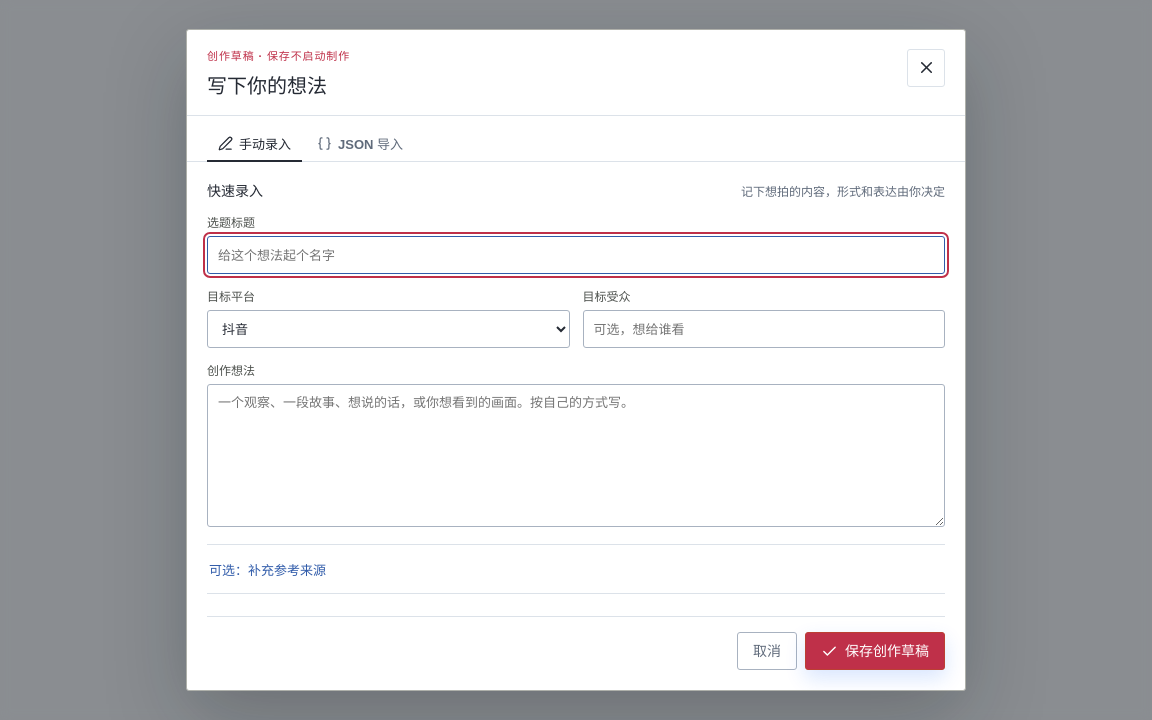
Test case: opportunity draft protection › blocks close during a save and retains values on rejection
The width and height of the screenshot is (1152, 720).
Type "要保留的内容" into the field labelled "选题标题".
click(576, 255); type("要保留的内容")  # box [207,236,945,274]
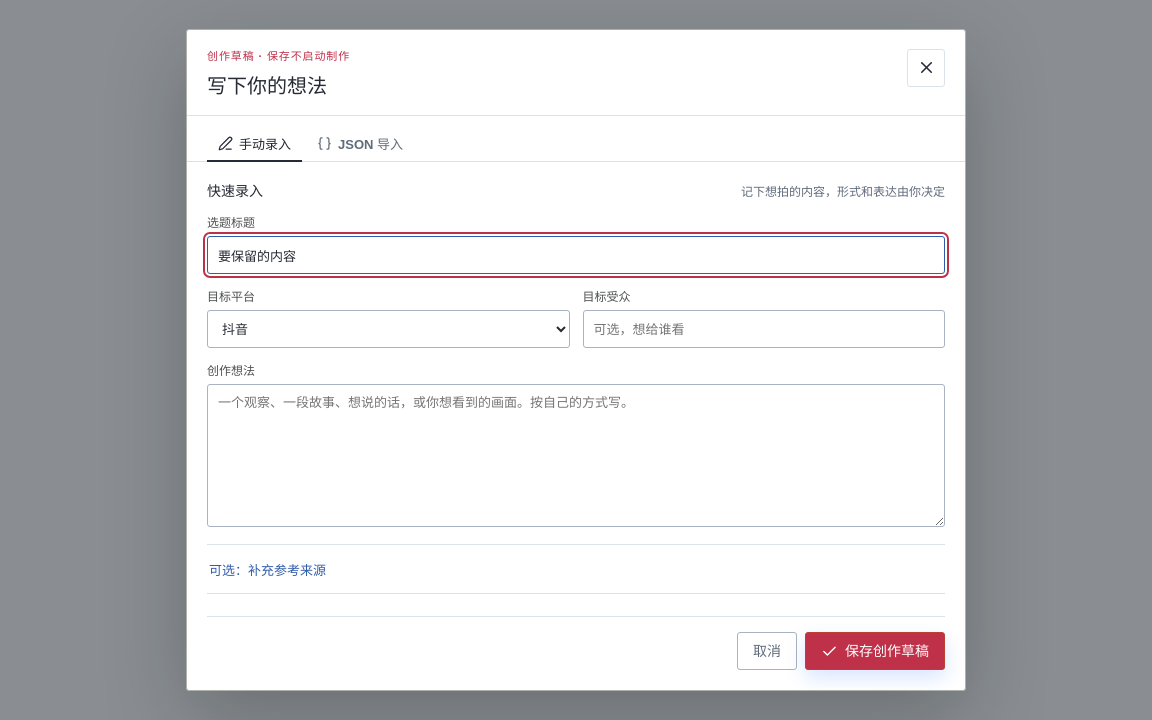
Type "要保留的内容" into the field labelled "目标受众".
click(764, 329); type("要保留的内容")  # box [582,310,945,348]
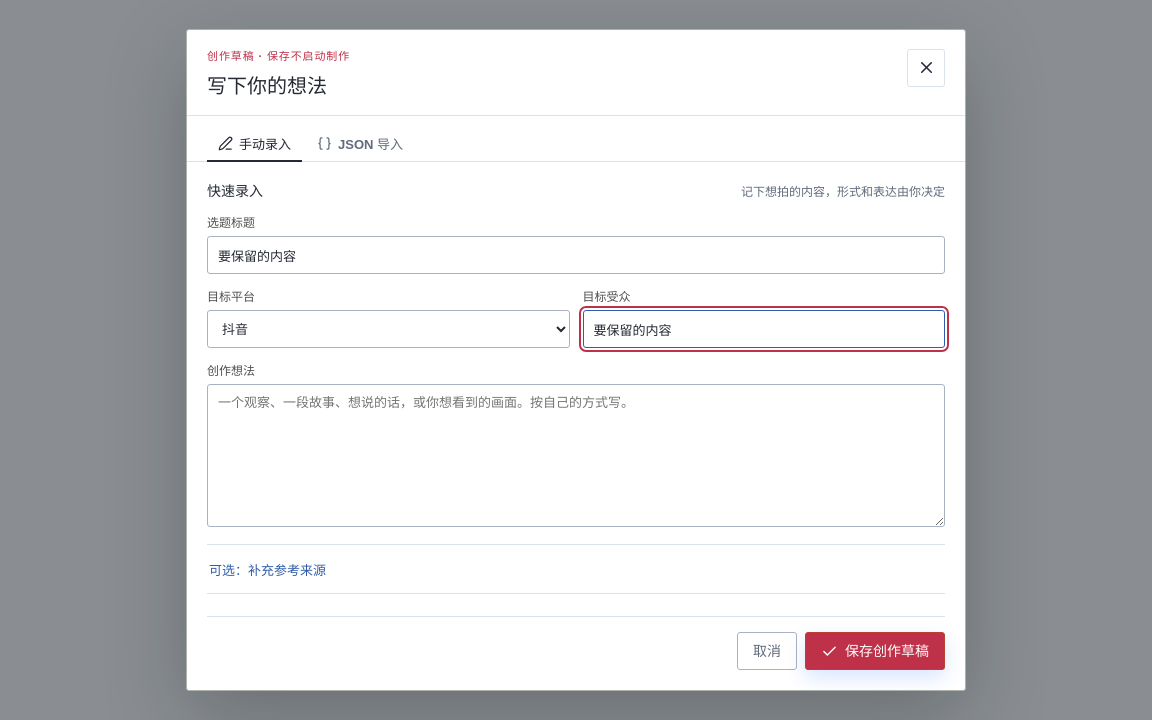
Type "要保留的内容" into the text box labelled "创作想法".
click(576, 456); type("要保留的内容")  # box [207,384,945,527]
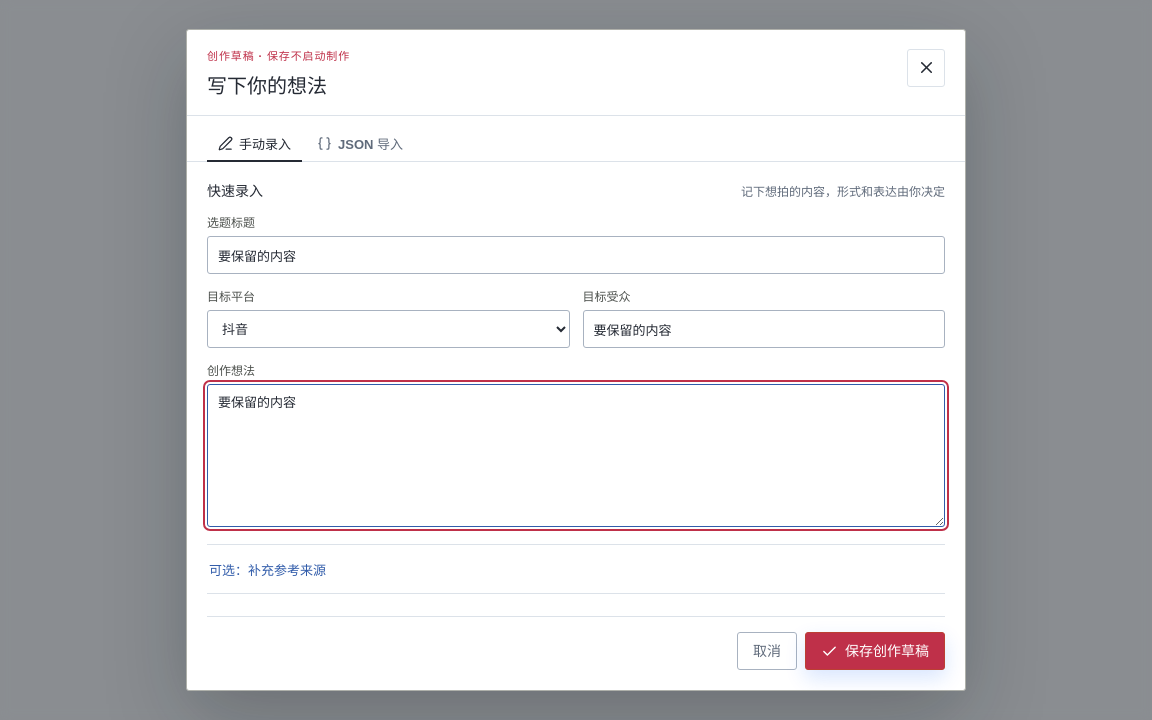
Click the button "保存创作草稿".
click(875, 651)  # box [805,632,945,670]
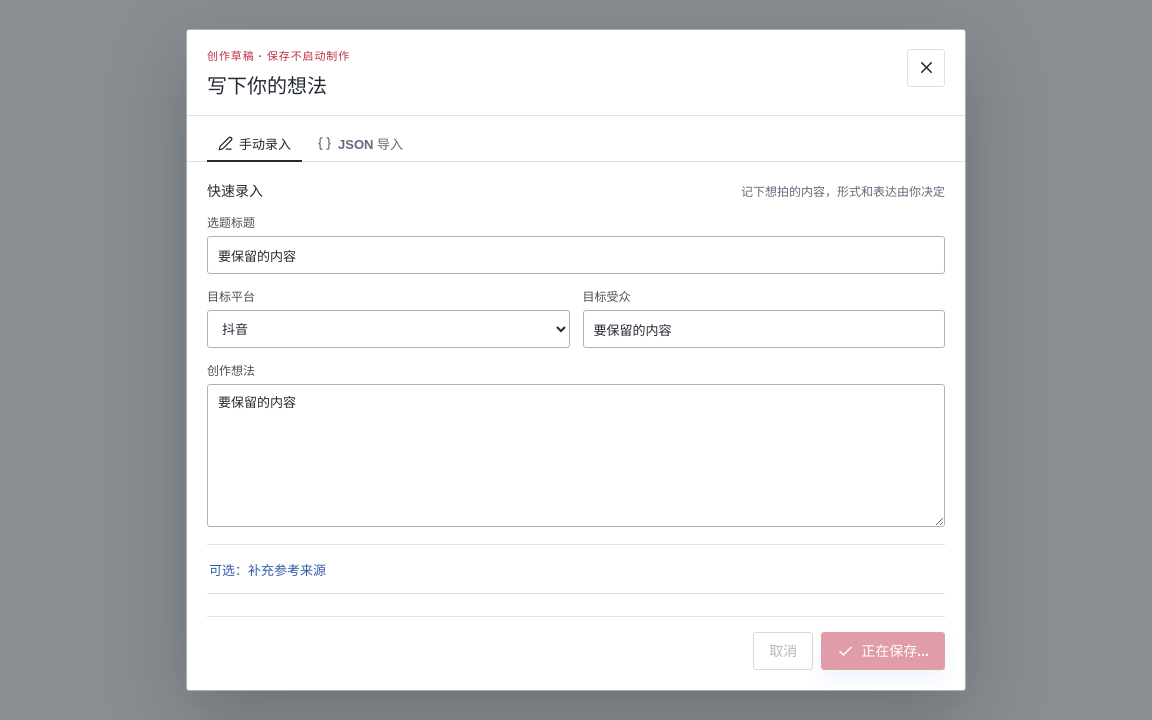
expect the button named "关闭" is disabled: met, box [907,49,945,87]
Press Escape
Press the mouse on the element that starts with "创作草稿 · 保存不启动制作" at (576, 360), box [0,0,1151,719]
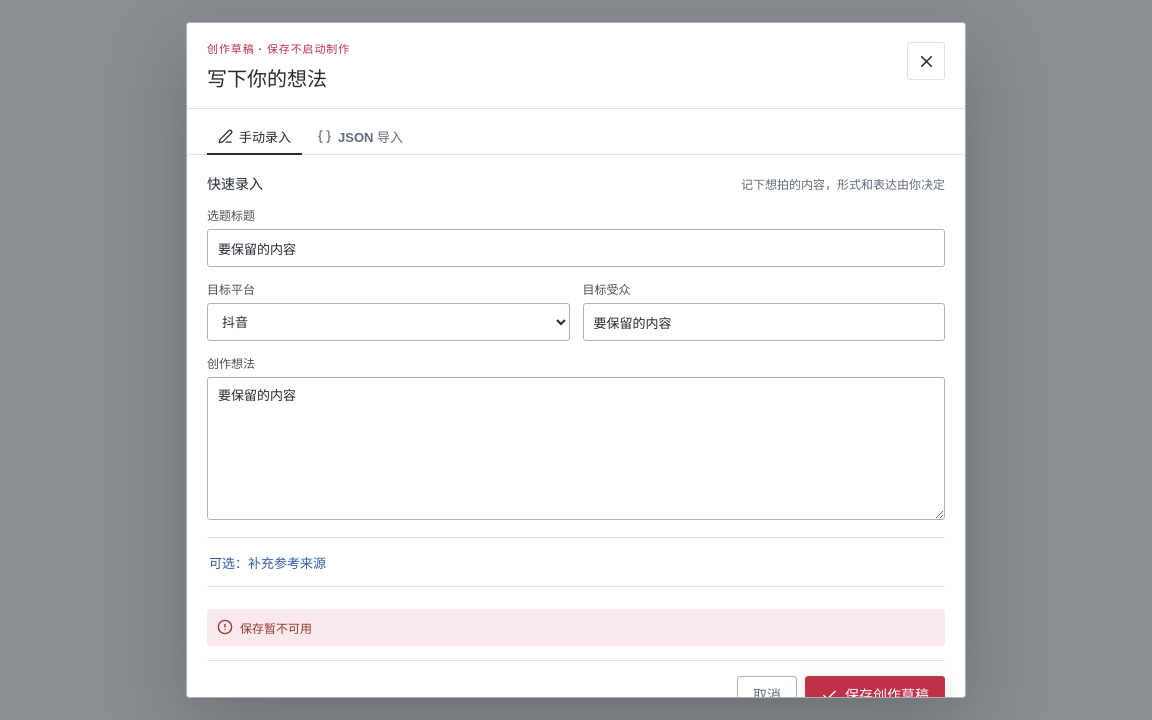
expect the message reads "保存暂不可用": met, box [240,622,312,636]
Press Escape
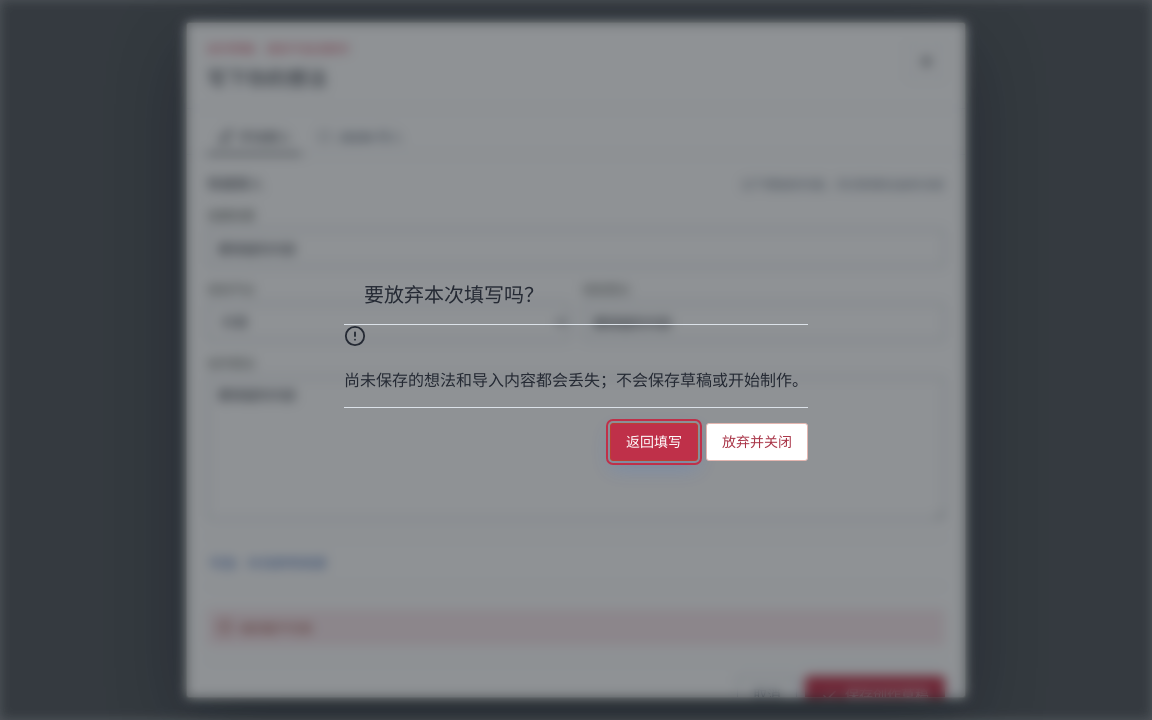
expect the button "返回填写" is shown: met, box [610,422,698,460]
